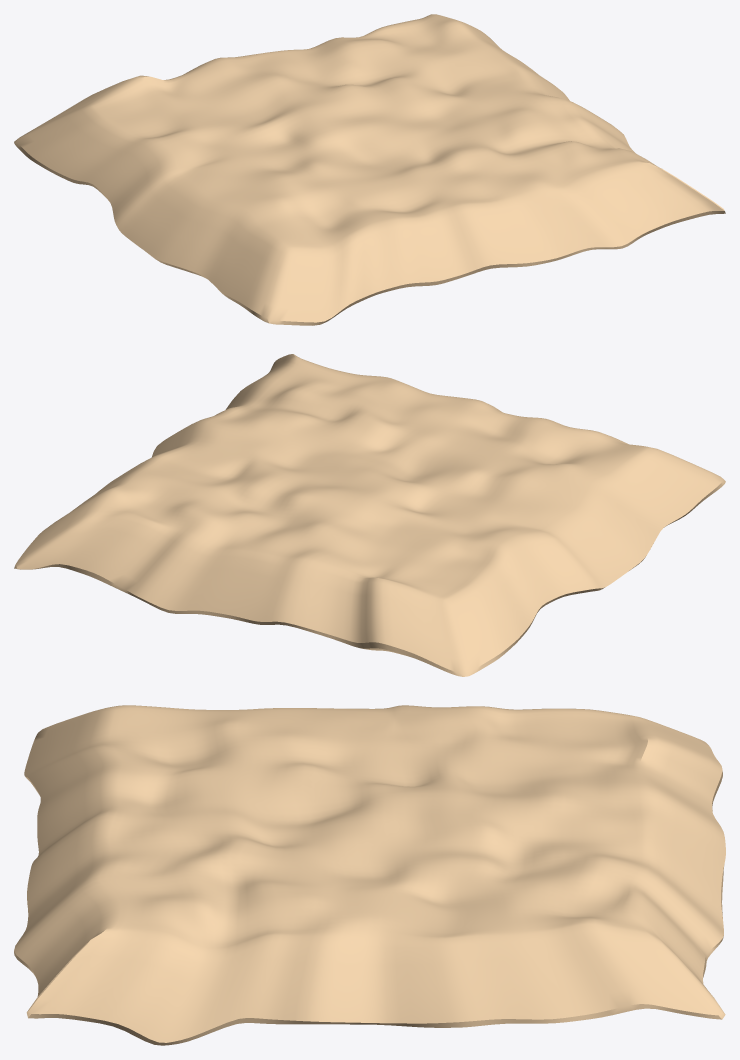
The model's file is island.fbx.
3 views of the same model, one above another, from view 1: azimuth 30°, elevation 25°; view 2: azimuth 150°, elevation 25°; view 3: azimuth 270°, elevation 25° (orthographic). The views are drawn at different scales.
Parts seen in each view (by area): view 1: Plane; view 2: Plane; view 3: Plane.
Boxes of the visible parts, x1,y1,x2,y2 form: Plane: (14,14,725,325); Plane: (14,354,725,676); Plane: (14,705,725,1045).
Size of the model in its own units: 1208 by 167 by 1210.
Materials: 1 (1 with a texture image).
